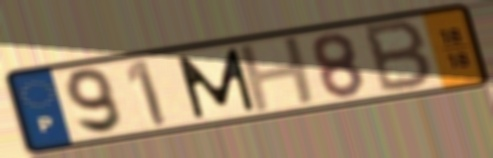1: (123, 56, 170, 130)
8: (307, 30, 368, 99)
9: (60, 66, 128, 137)
B: (361, 18, 435, 96)
H: (235, 33, 322, 116)
M: (173, 45, 259, 121)
